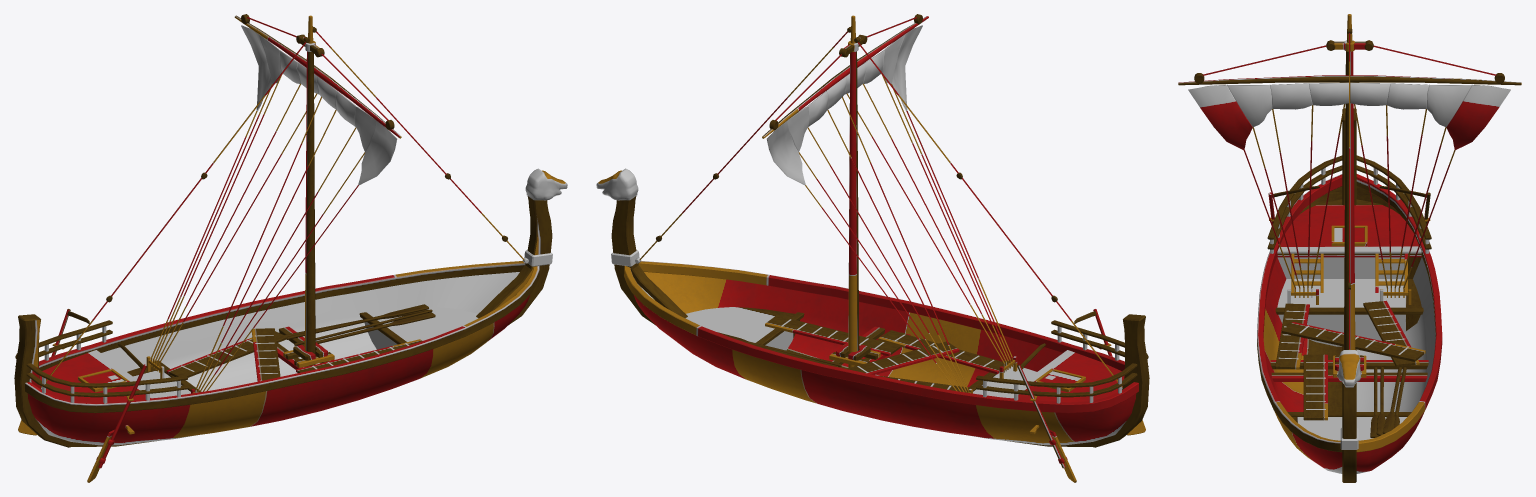
File: Phoenician_Fishing_Boat_1_Complete.fbx
The picture shows the model from 3 angles, left to right: view 1: azimuth 30°, elevation 25°; view 2: azimuth 150°, elevation 25°; view 3: azimuth 270°, elevation 25°; orthographic projection. The views are drawn at different scales.
Visible parts, largest first — view 1: polySurface861; view 2: polySurface861; view 3: polySurface861.
Part boxes in pixels (bbox=[...]): polySurface861: bbox=[14, 14, 567, 482]; polySurface861: bbox=[596, 14, 1149, 482]; polySurface861: bbox=[1178, 14, 1521, 482].
Size of the model in its own units: 1202 by 813 by 626.
